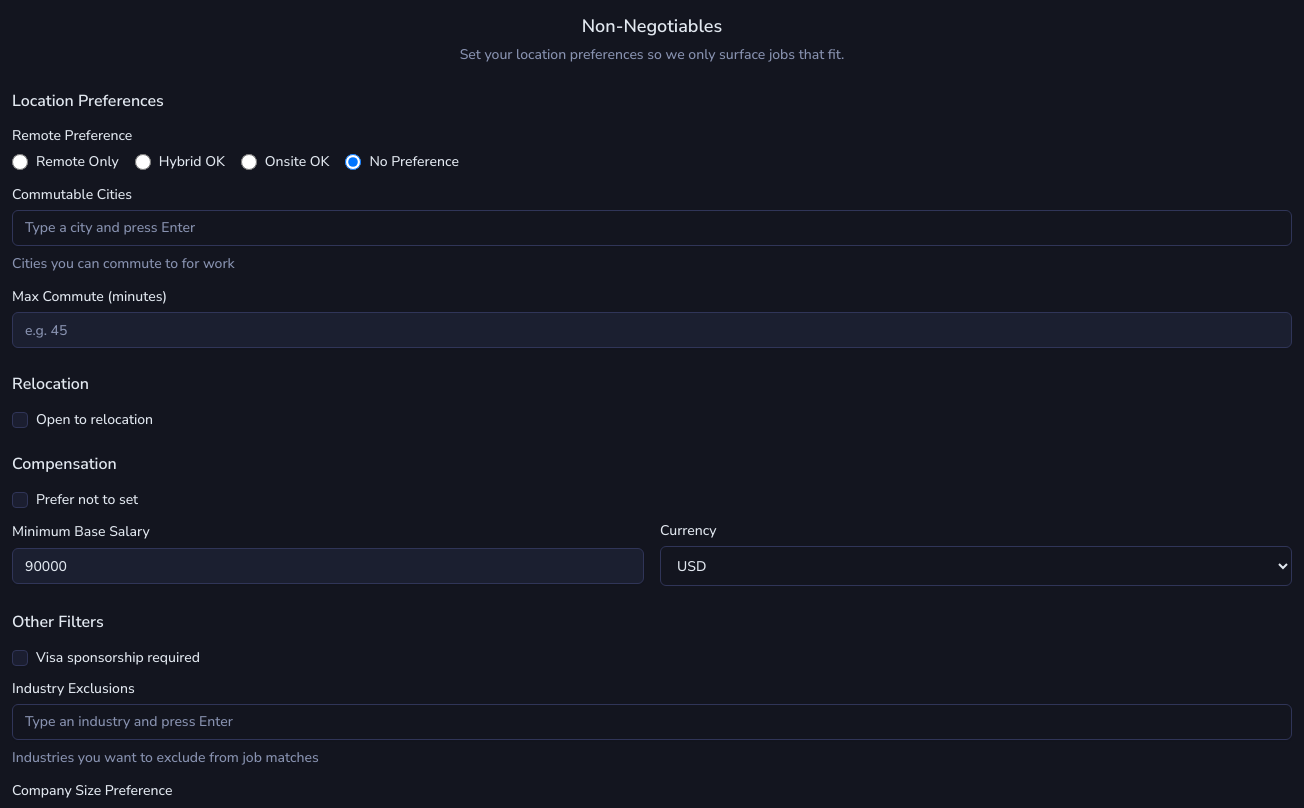
Test: NonNegotiablesStep › conditional field visibility › hides salary input when 'Prefer not to set' is checked
The image size is (1304, 808).
Expected: the number field labelled "Minimum Base Salary" is shown, [12,548,644,584]
Note: Check "Prefer not to set"
Click the checkbox named "prefer not to set" next to "Prefer not to set" at (20, 500), box [12,492,28,508]
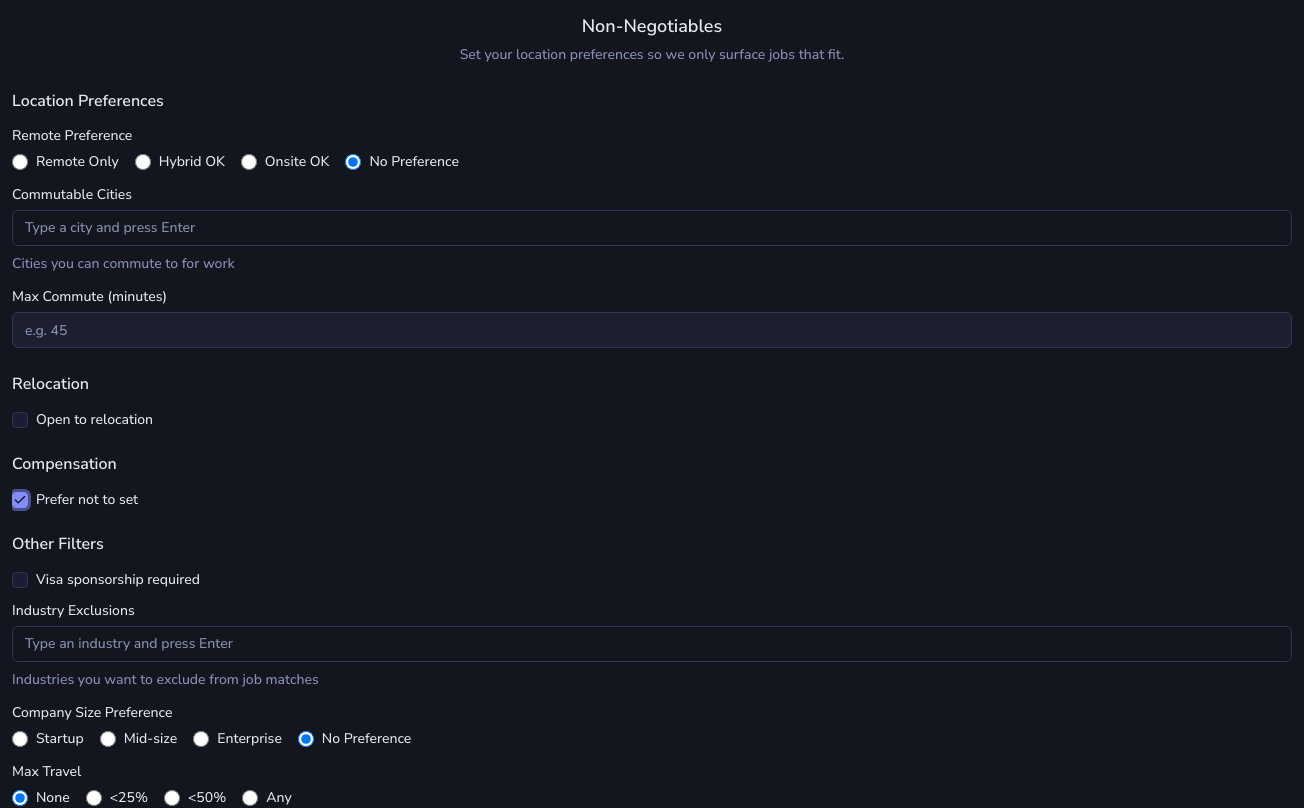
Expected: the label labelled "Minimum Base Salary" is gone
